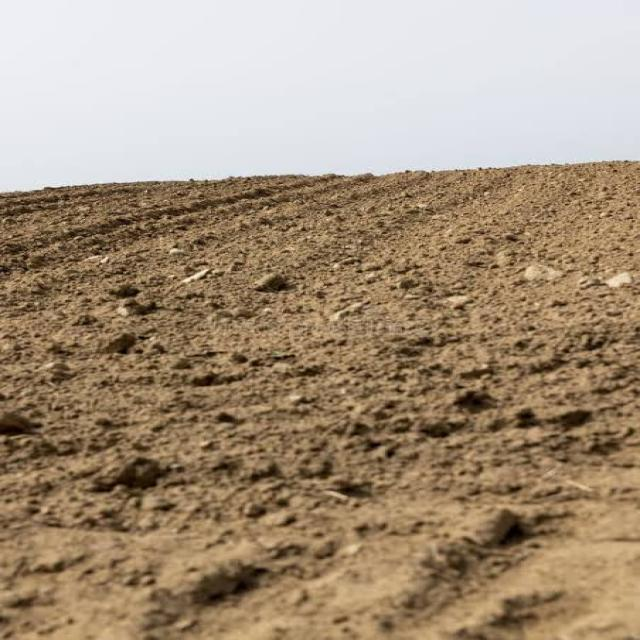suelo_seco: (108, 204, 525, 590)
